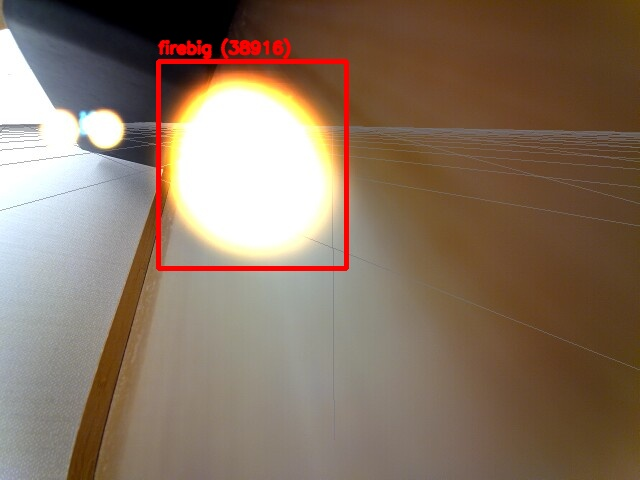firebig: (158, 61, 346, 268)
